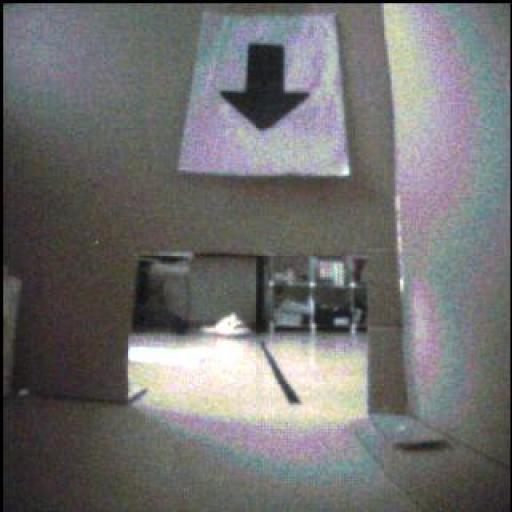arrow: (222, 46, 310, 131)
